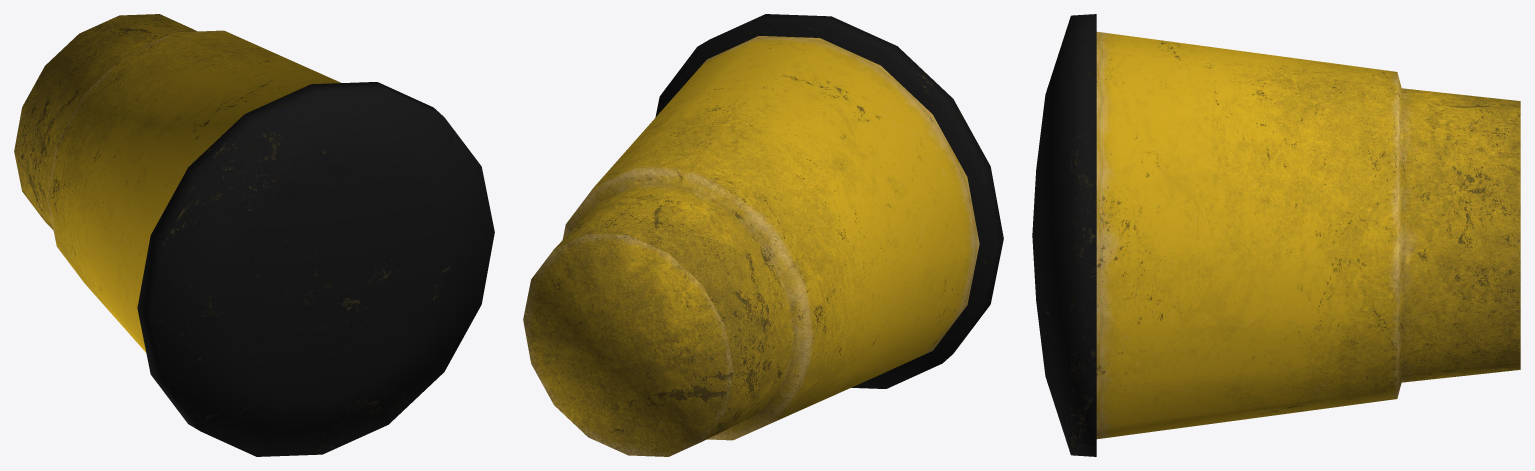
Rendered from Yellow_Crash_Barrel.obj.
3 renders of one model, left to right at view 1: azimuth 30°, elevation 25°; view 2: azimuth 150°, elevation 25°; view 3: azimuth 270°, elevation 25°, orthographic. The views are drawn at different scales.
Parts seen in each view (by area): view 1: YellBarrel; view 2: YellBarrel; view 3: YellBarrel.
Part boxes in pixels (bbox=[...]): YellBarrel: bbox=[14, 14, 494, 456]; YellBarrel: bbox=[523, 14, 1003, 456]; YellBarrel: bbox=[1032, 14, 1520, 456].
Size of the model in its own units: 1.1 by 1.1 by 1.21.
Materials: 1 (1 with a texture image).
